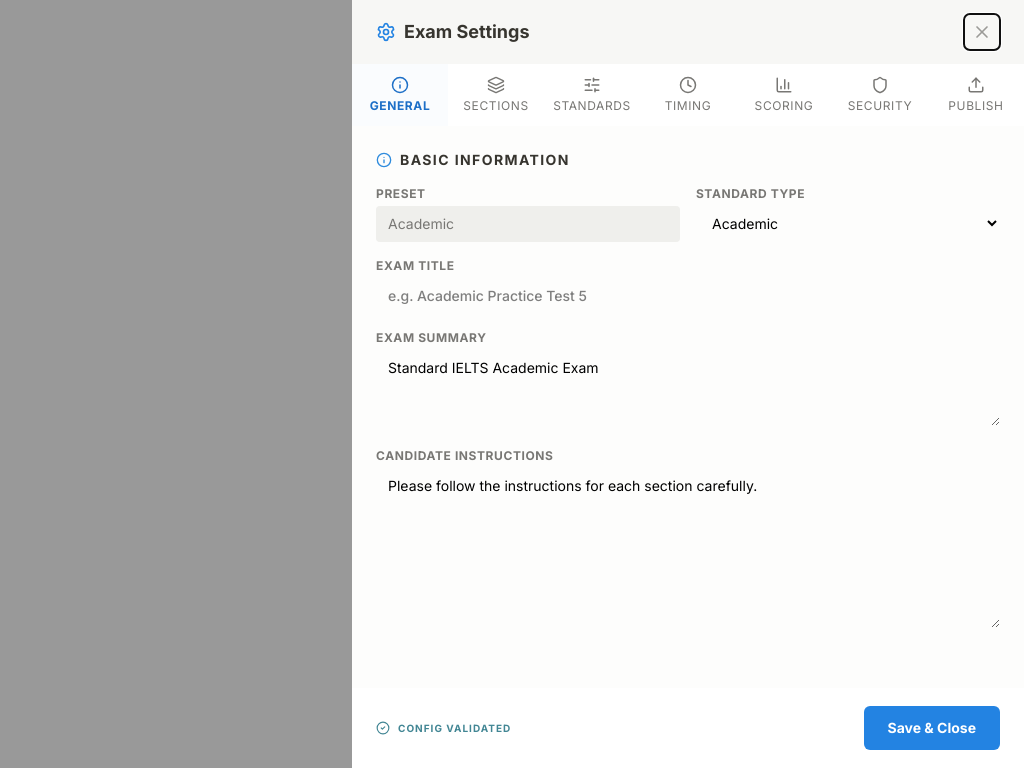
ExamSettingsDrawer publish tab › merges readiness and actions into one release status section
This screenshot has width=1024, height=768.
Click the button "Publish": point(976, 95) top-left (928, 64), bottom-right (1023, 126)
(page scrolled)
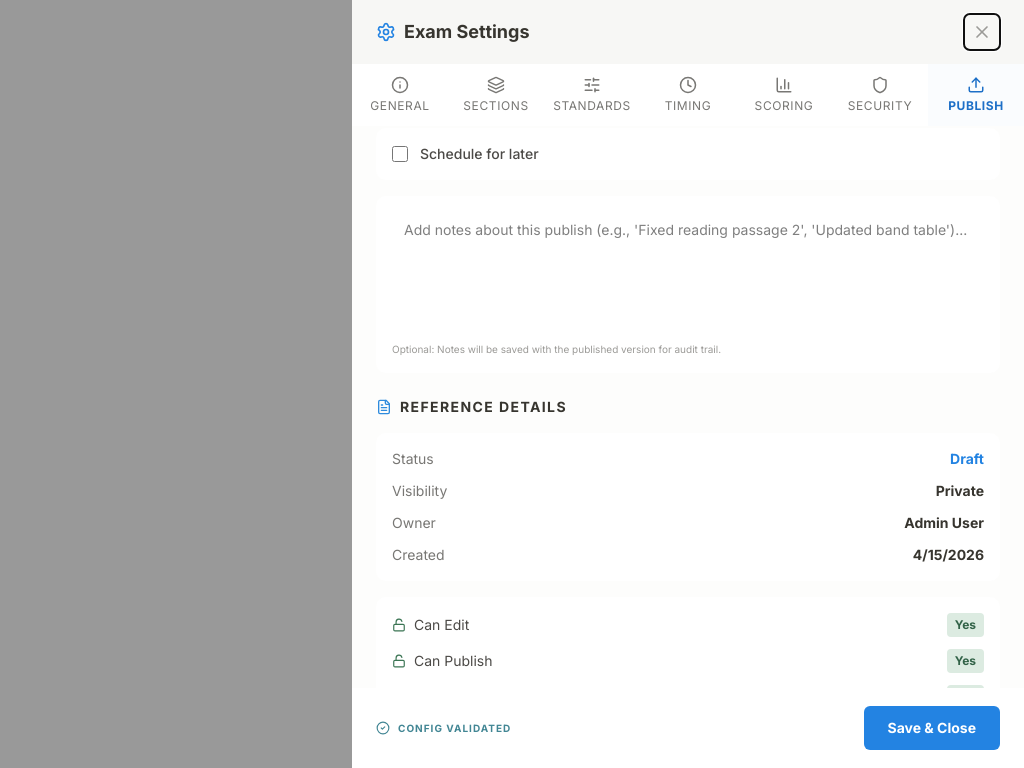
Now the heading "Reference Details" is shown, box top-left (376, 398), bottom-right (567, 415)
